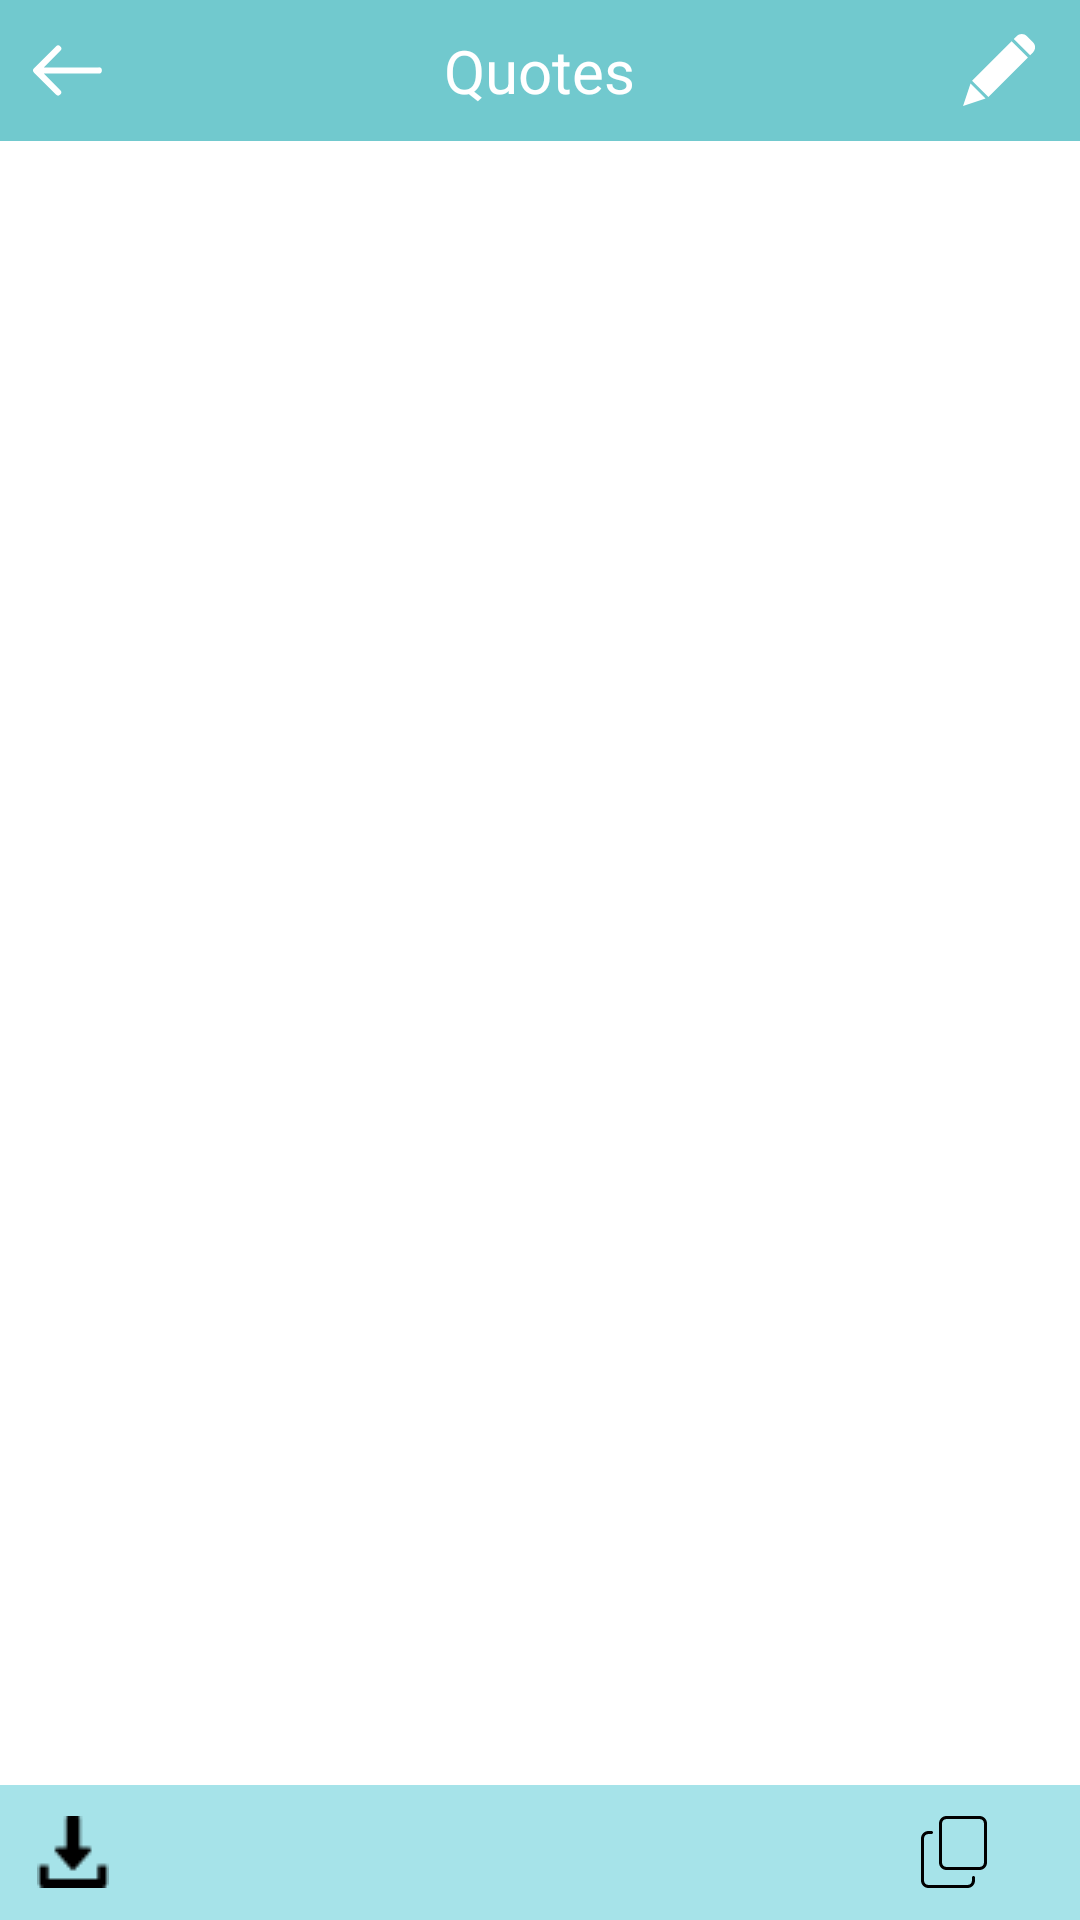

Locate icon controls on the screen. Image size 1080px x 1920px, boxes as (x1, y1, x2, y2).
backarrow: (33, 45, 102, 96)
editpen: (963, 34, 1035, 106)
